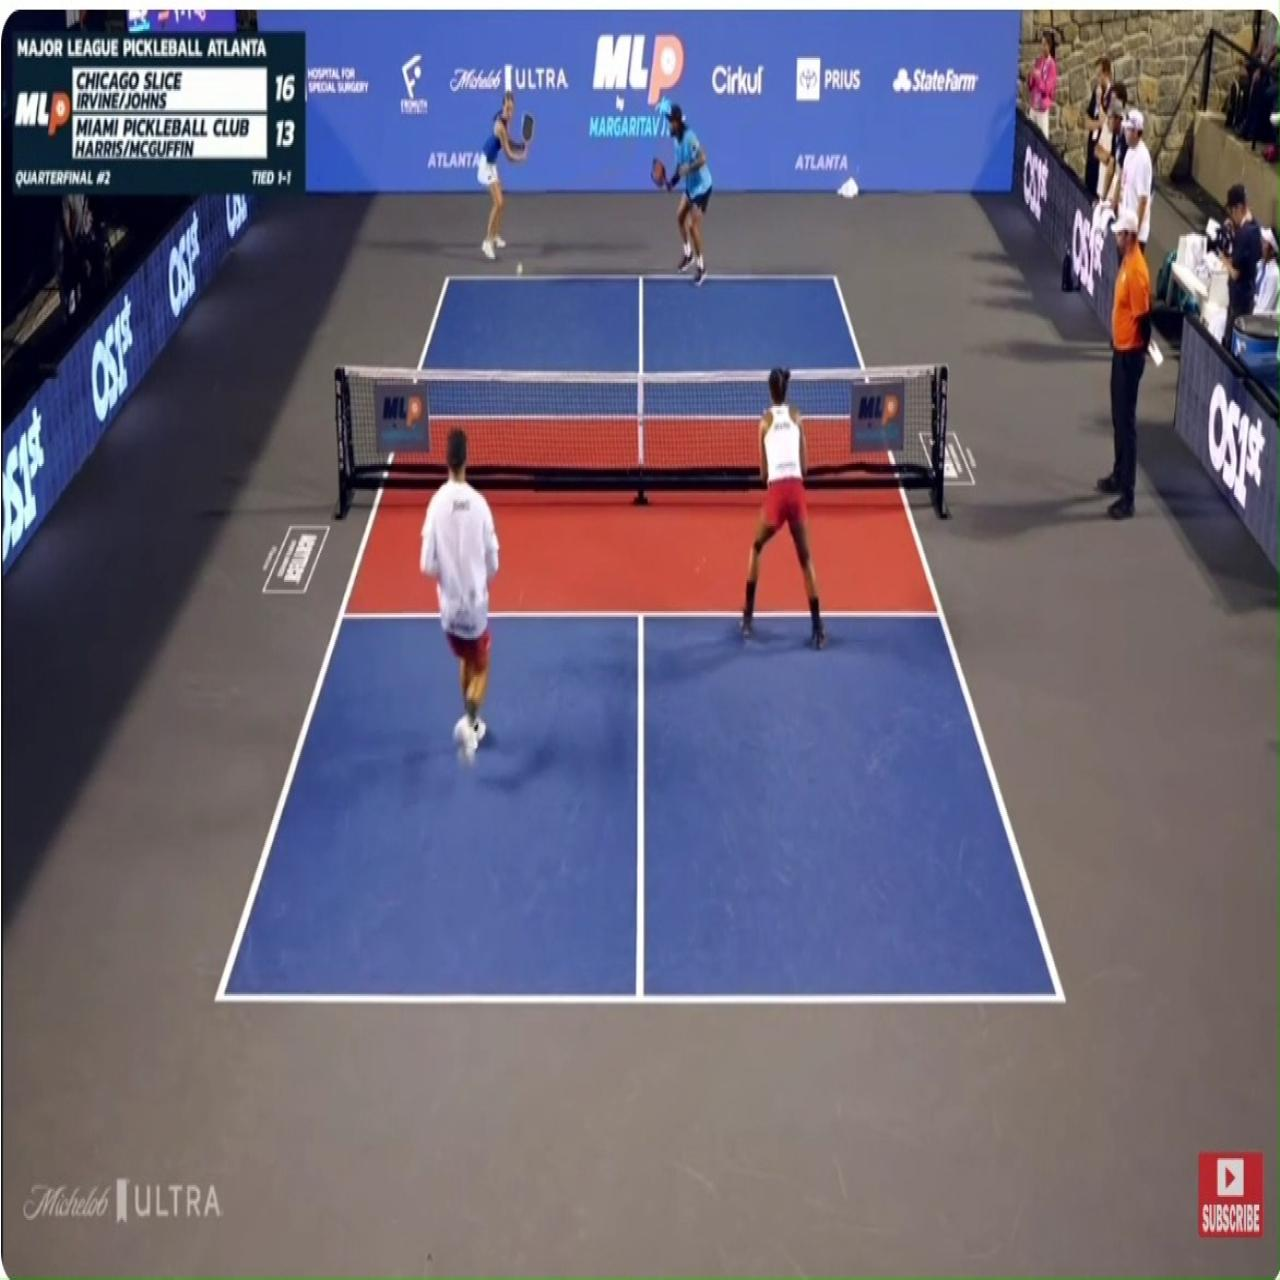pickleball: (516, 263, 524, 275)
